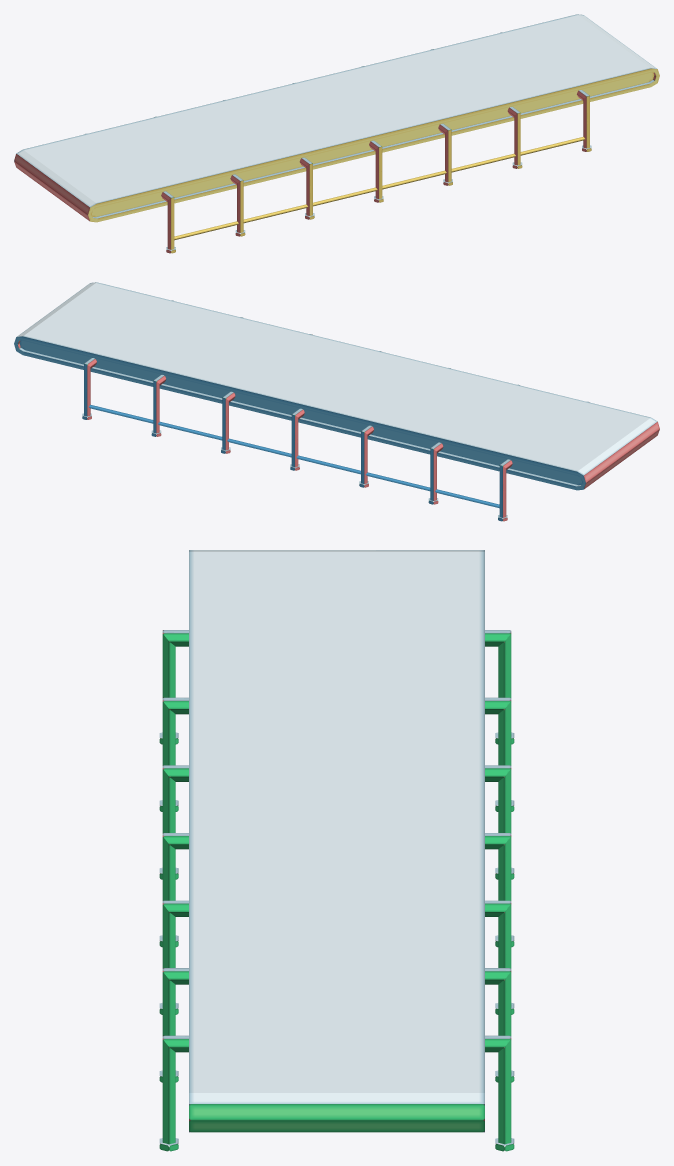
The model's file is conveyer_belt.fbx.
3 views of the same model, one above another, from view 1: azimuth 30°, elevation 25°; view 2: azimuth 150°, elevation 25°; view 3: azimuth 270°, elevation 25° (orthographic). The views are drawn at different scales.
Visible parts, largest first — view 1: Object007; view 2: Object007; view 3: Object007.
Boxes of the visible parts, bbox=[...] form: Object007: bbox=[14, 14, 659, 253]; Object007: bbox=[14, 282, 659, 521]; Object007: bbox=[159, 550, 514, 1151].
Bounding box in the file's own units: 2032 × 207 × 546.
1 material, 1 textured.
